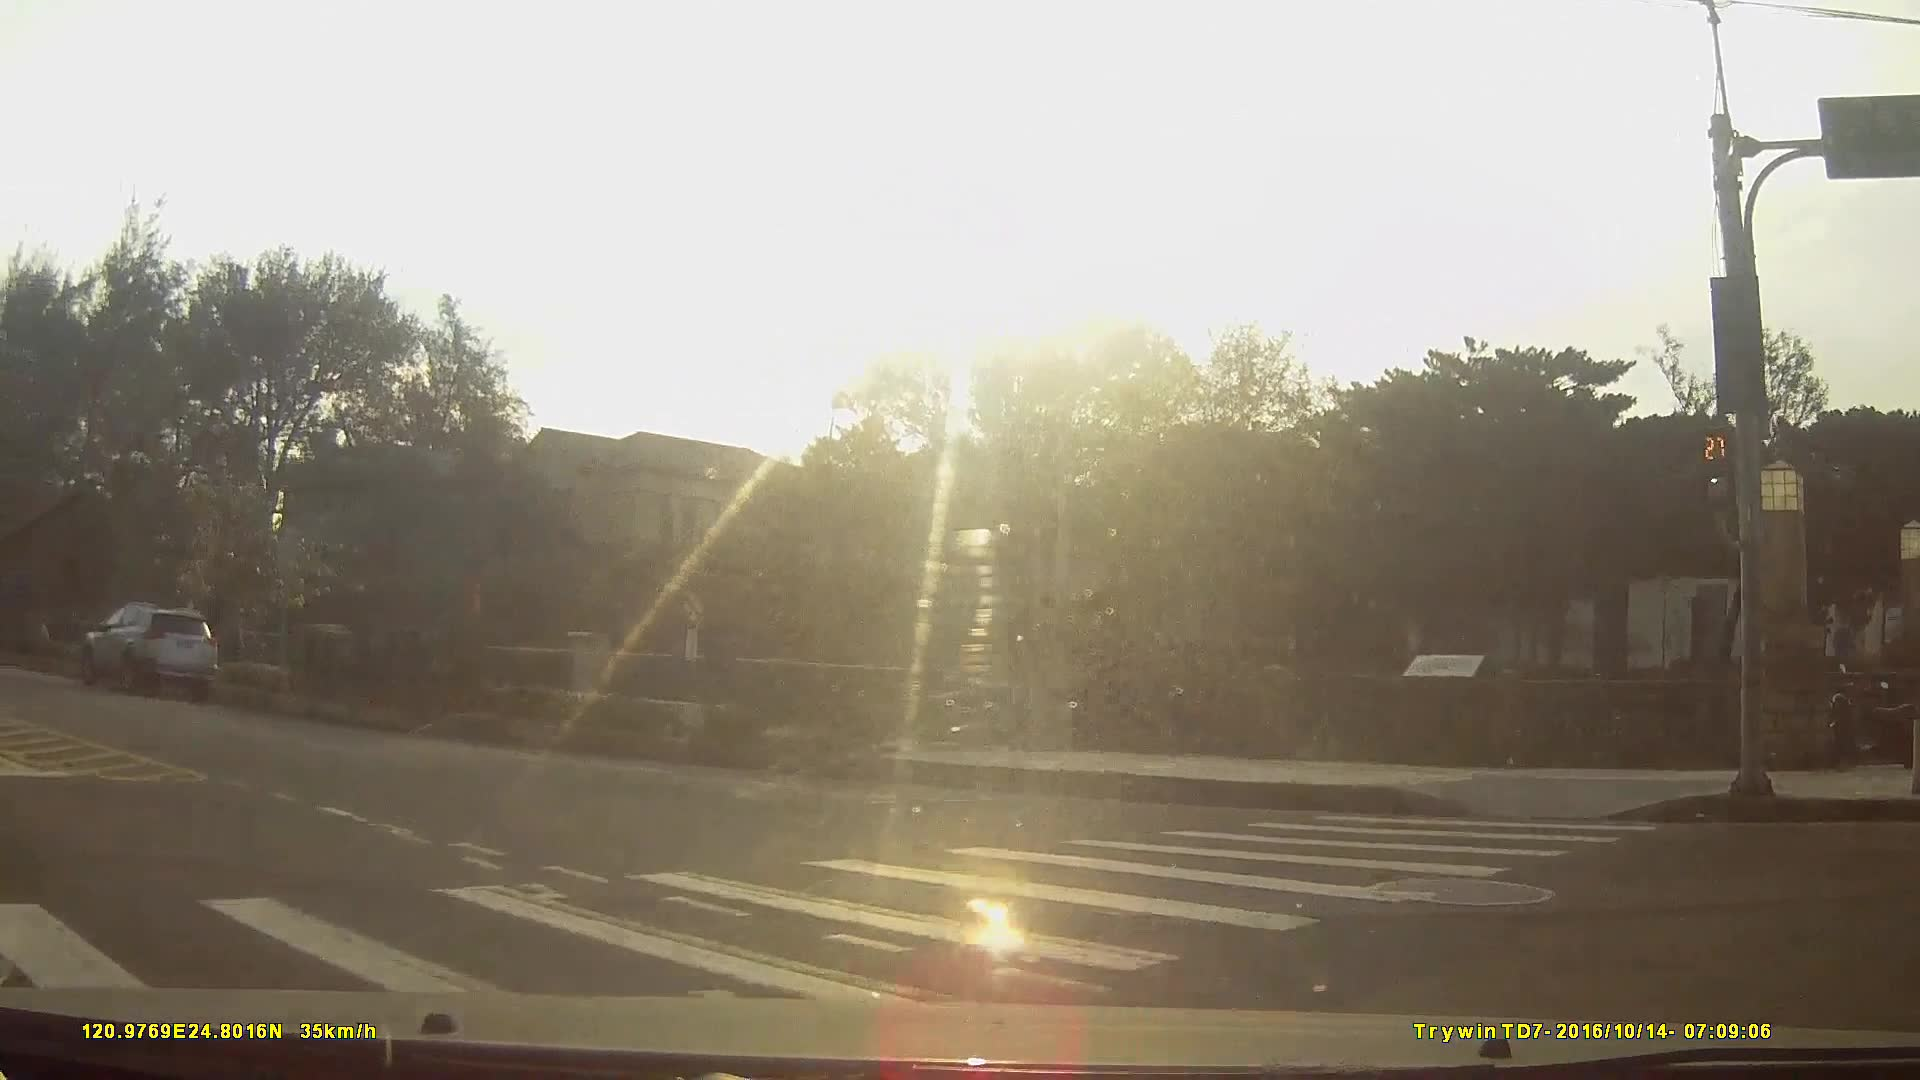vehicle: (80, 599, 218, 695)
